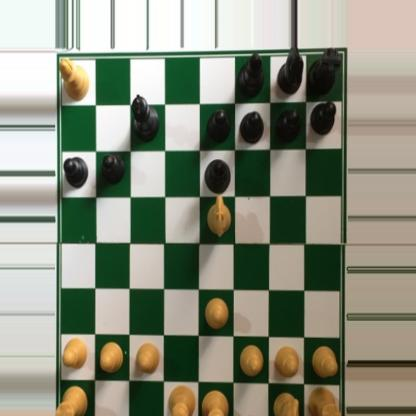black-bishop: (235, 47, 264, 100), (204, 158, 231, 195)
black-king: (129, 95, 158, 143)
black-knight: (277, 47, 304, 97)
black-pawn: (309, 99, 337, 136), (273, 108, 301, 144), (205, 110, 231, 146), (61, 155, 88, 189), (100, 151, 125, 186), (239, 110, 264, 145)
black-rook: (306, 47, 340, 96)
white-bishop: (58, 56, 91, 103)
white-king: (200, 387, 230, 416)
white-knight: (207, 194, 232, 241), (273, 391, 299, 416)
white-pawn: (309, 345, 340, 382), (62, 331, 88, 371), (97, 340, 125, 376), (272, 342, 299, 379), (237, 344, 265, 377), (134, 341, 161, 375), (204, 295, 229, 331)
white-queen: (166, 383, 195, 416)
white-rook: (305, 383, 342, 416), (55, 384, 89, 416)
